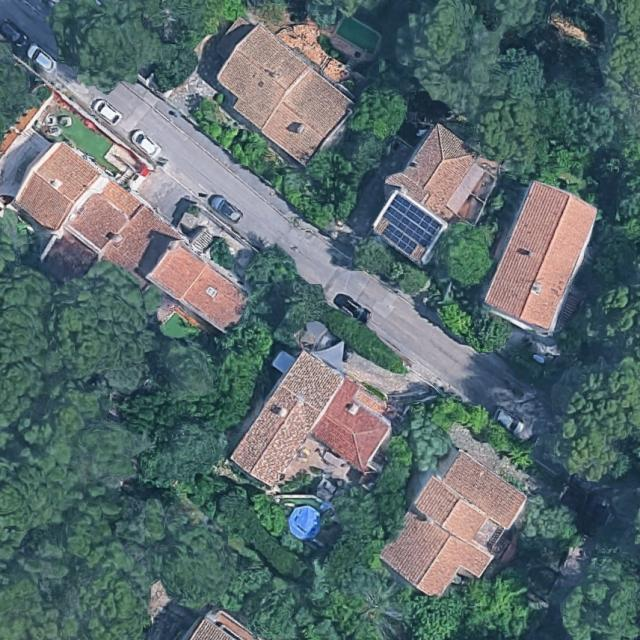maison: (375, 445, 532, 614), (354, 120, 509, 276), (202, 18, 359, 170), (144, 237, 255, 338), (8, 137, 103, 235), (97, 202, 183, 287), (66, 175, 143, 255)
